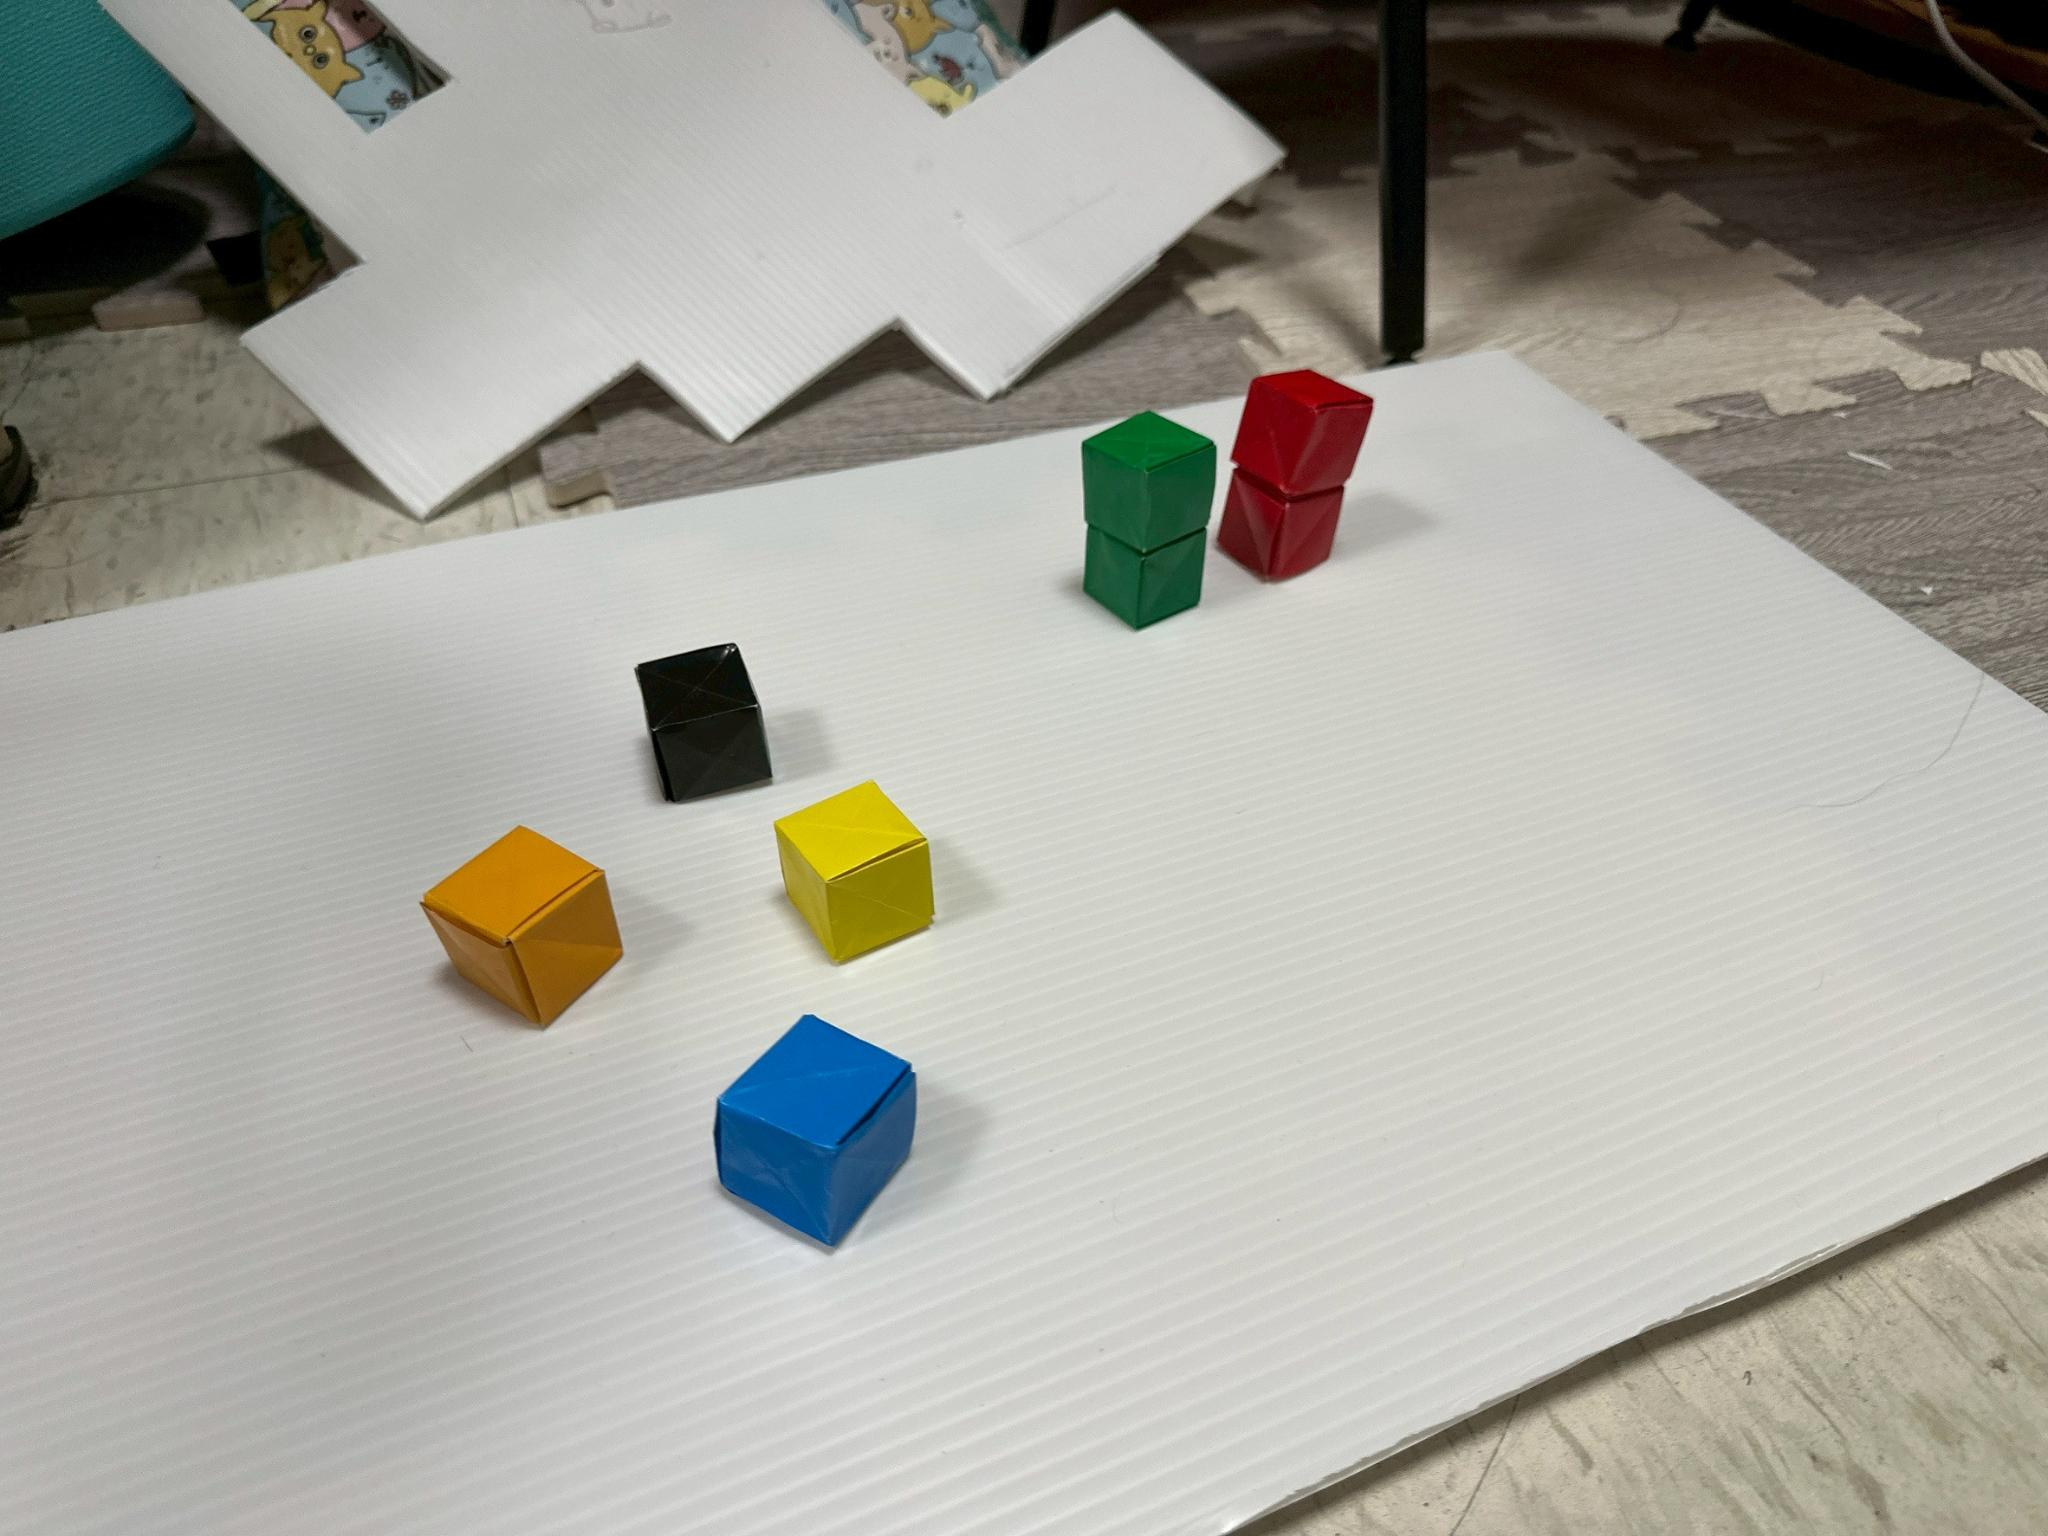cube: (716, 1015, 916, 1247), (423, 828, 621, 1025), (774, 781, 934, 962), (635, 645, 771, 802), (1084, 413, 1216, 550), (1232, 369, 1372, 495), (1218, 466, 1342, 579), (1085, 526, 1205, 628)
